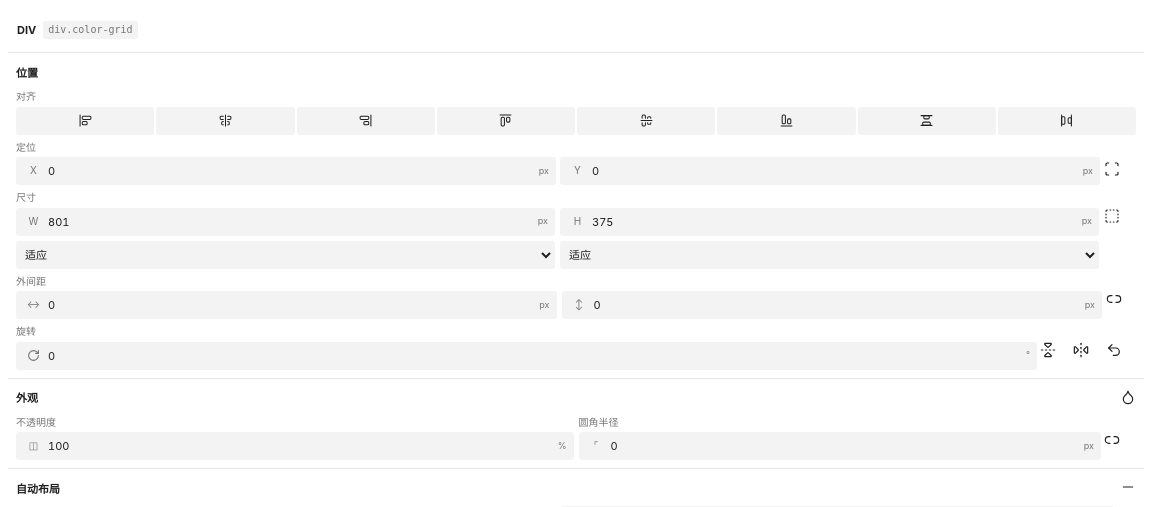
Test case: StylePanel › shows grouped flex containers as adaptive size and switches to fixed after editing width or height
This screenshot has width=1152, height=507.
Expected: the number field named "高" holds "375", [590,208,1082,234]
Expected: the dropdown named "宽调整模式" shows "适应", [17,242,554,268]
Replace the text in the number field named "宽" with "802": point(292, 222) [46,208,538,234]
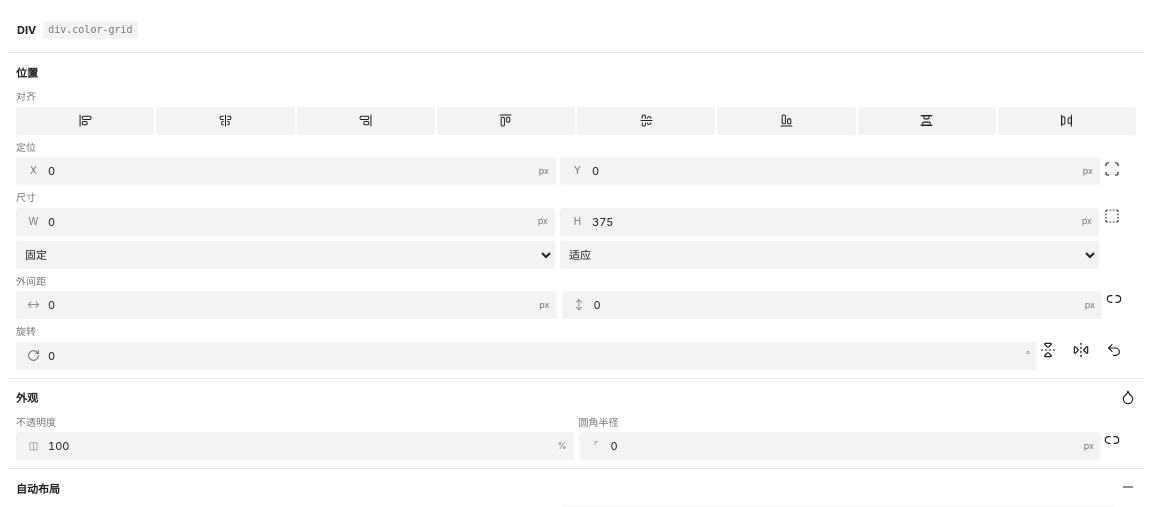
Replace the text in the number field named "高" with "376": point(836, 222) [590,208,1082,234]
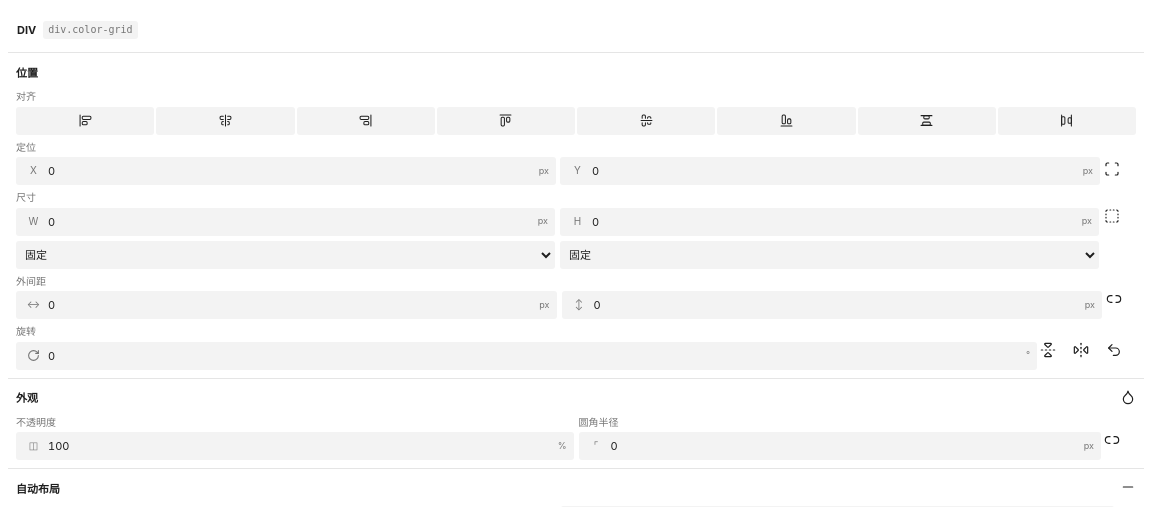
Now the dropdown named "宽调整模式" shows "固定", box [17,242,554,268]
Now the dropdown named "高调整模式" shows "固定", box [561,242,1098,268]
